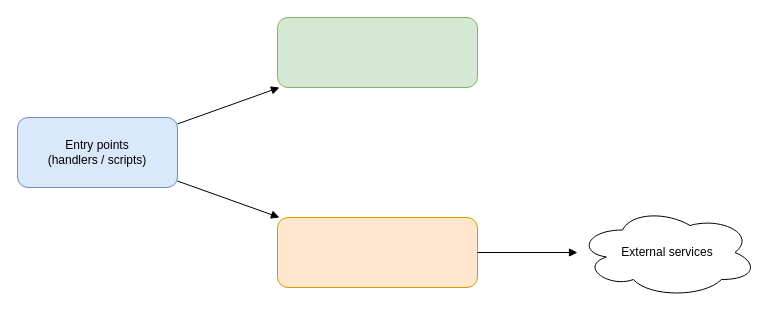
The diagram is 775 pixels wide and 315 high, and some of its shapes have lost their labels. The shapes that lost their labels are listed below. From the top down, each one's centre as x and y in pixels, then its label:
At (377,52): "src/core/ pure logic (now, rng passed in)".
At (377,252): "src/adapters/ APIs, database, files".
